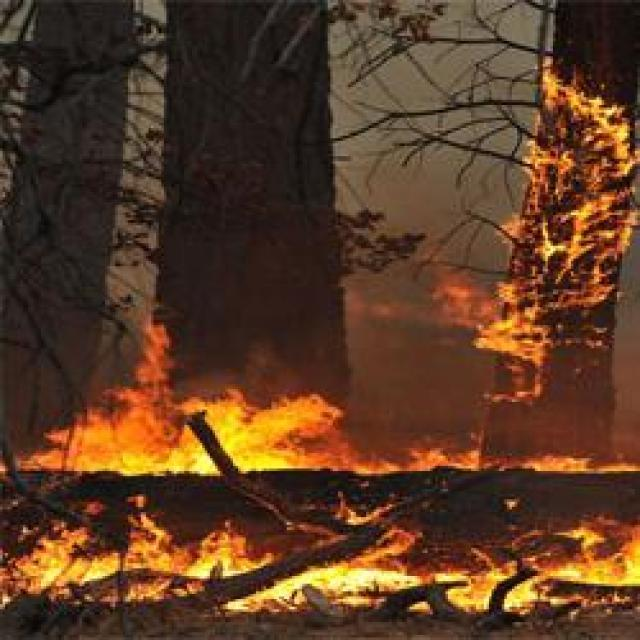Fire: (80, 382, 322, 472), (567, 546, 640, 593), (314, 570, 434, 598), (32, 540, 120, 576)
